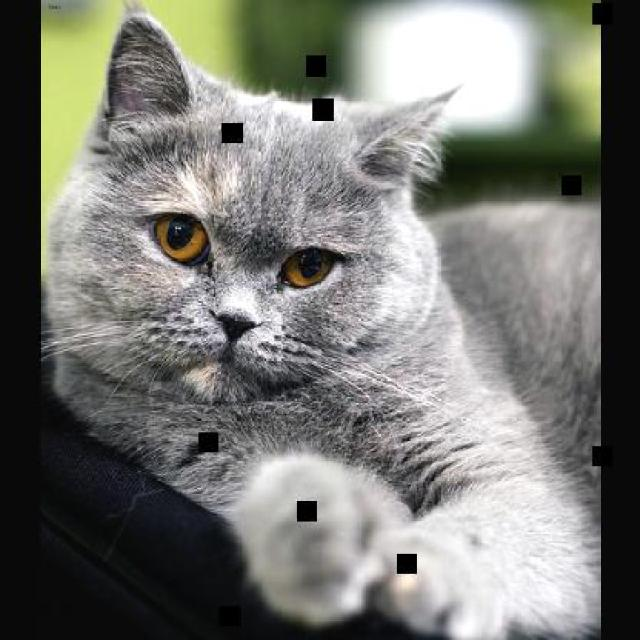unauthorized: (38, 4, 600, 638)
